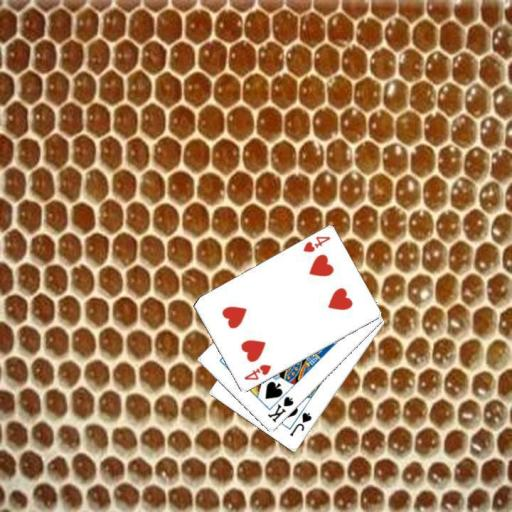card-corner: (265, 393, 295, 424), (286, 409, 314, 438), (300, 233, 331, 255), (241, 361, 272, 382)
